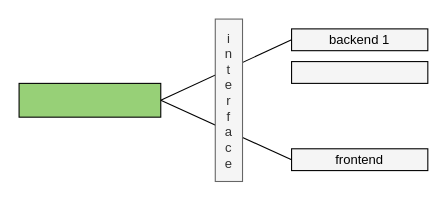
This 447x201 diagram has some shape labels left out. Here are the shapes that lost their labels. From the top down, the centre of each, then its label:
the point at 359,71: backend 2
the point at 89,99: application
